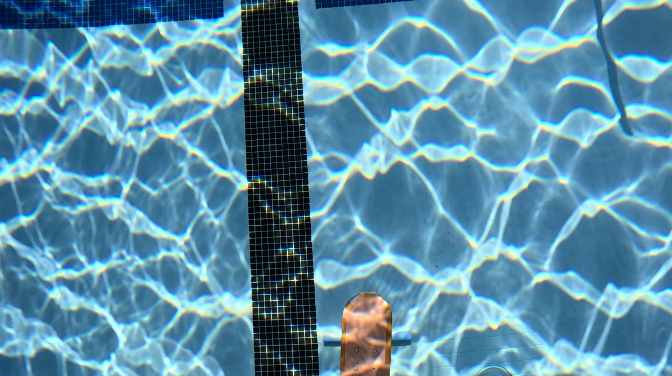pathmarker: (341, 289, 391, 375)
